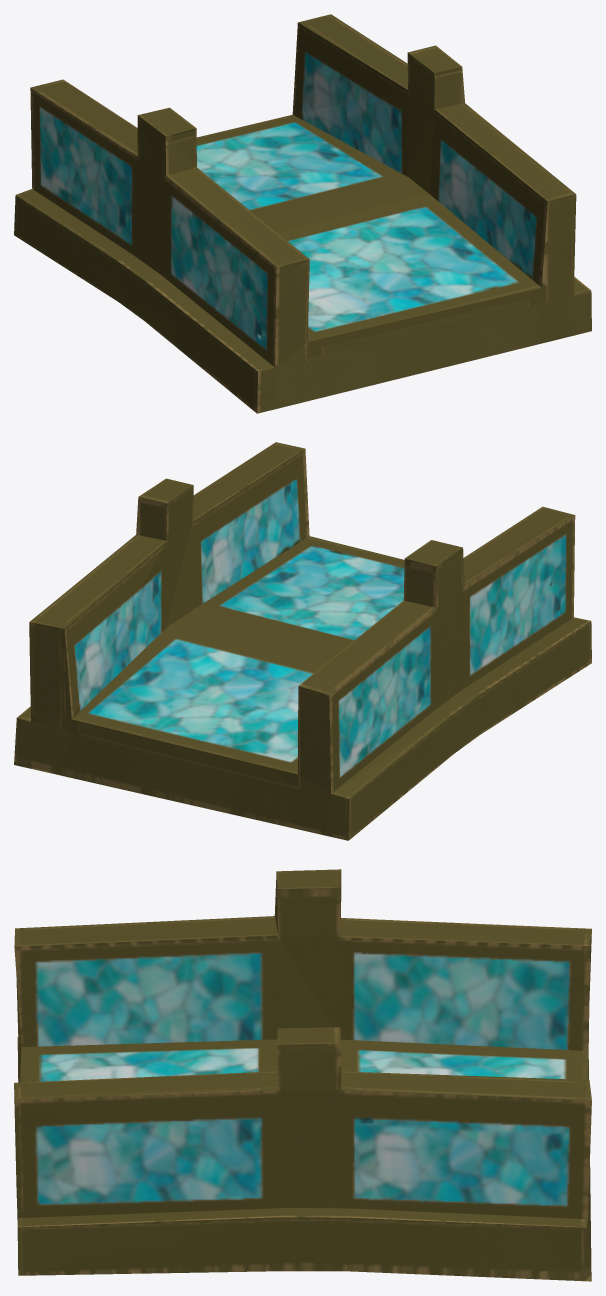
Rendered from bridgeBrokenPiece.glb.
3 renders of one model, top to bottom at view 1: azimuth 30°, elevation 25°; view 2: azimuth 150°, elevation 25°; view 3: azimuth 270°, elevation 25°, orthographic. The views are drawn at different scales.
Visible parts, largest first — view 1: bridgeBaseLP.001; view 2: bridgeBaseLP.001; view 3: bridgeBaseLP.001.
Boxes of the visible parts, bbox=[...] form: bridgeBaseLP.001: bbox=[14, 14, 591, 413]; bridgeBaseLP.001: bbox=[14, 442, 591, 840]; bridgeBaseLP.001: bbox=[14, 869, 591, 1281].
Size of the model in its own units: 0.7842 by 0.4419 by 1.
1 material, 1 textured.
